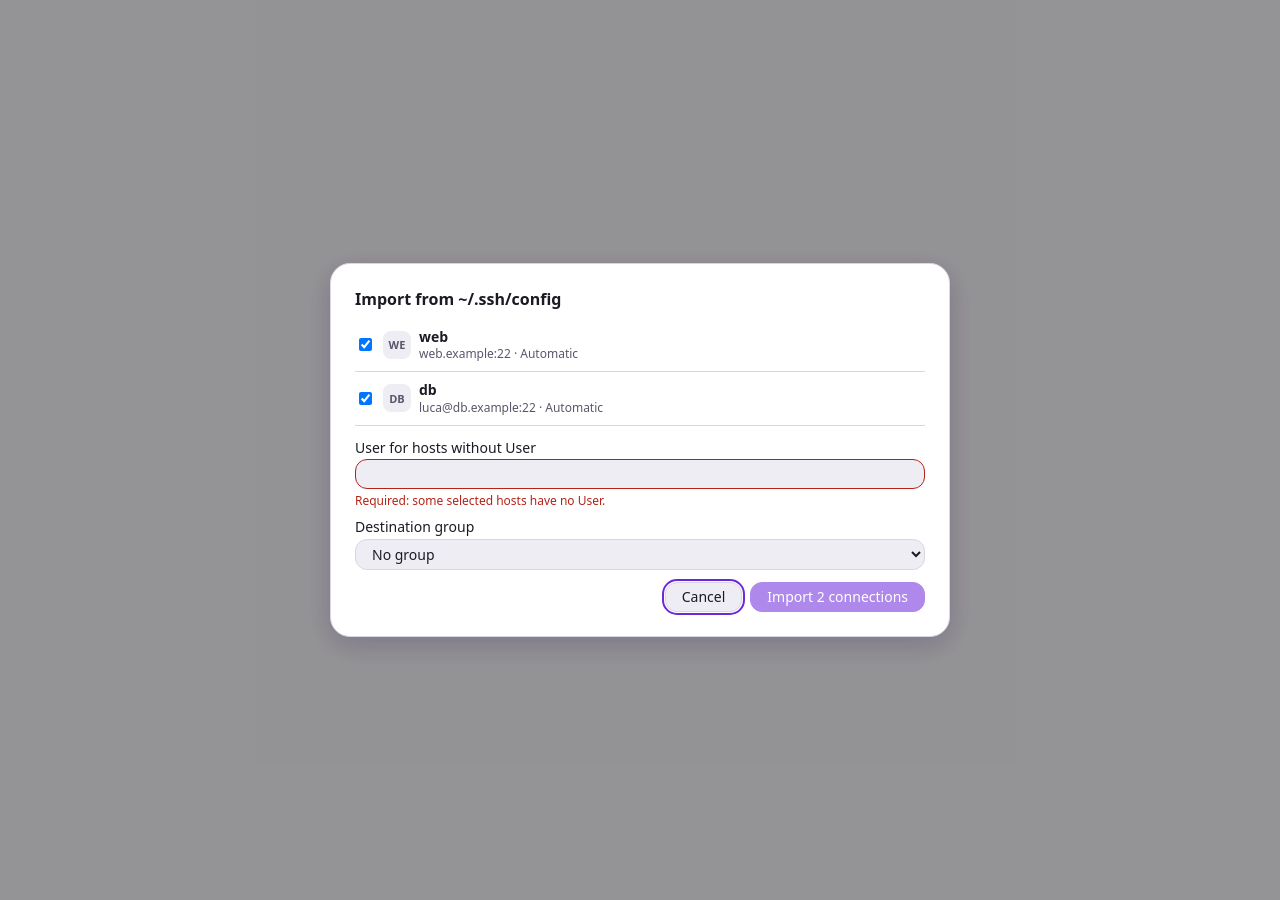
Scenario: user field appears and is required when a selected host has no User
The width and height of the screenshot is (1280, 900).
Expected: the dialog is shown, [330, 263, 950, 637]
Expected: the button "Import 2 connections" is disabled, [750, 582, 925, 612]
Type "root" into the field labelled "User for hosts without User".
click(640, 474); type("root")  # box [355, 459, 925, 489]
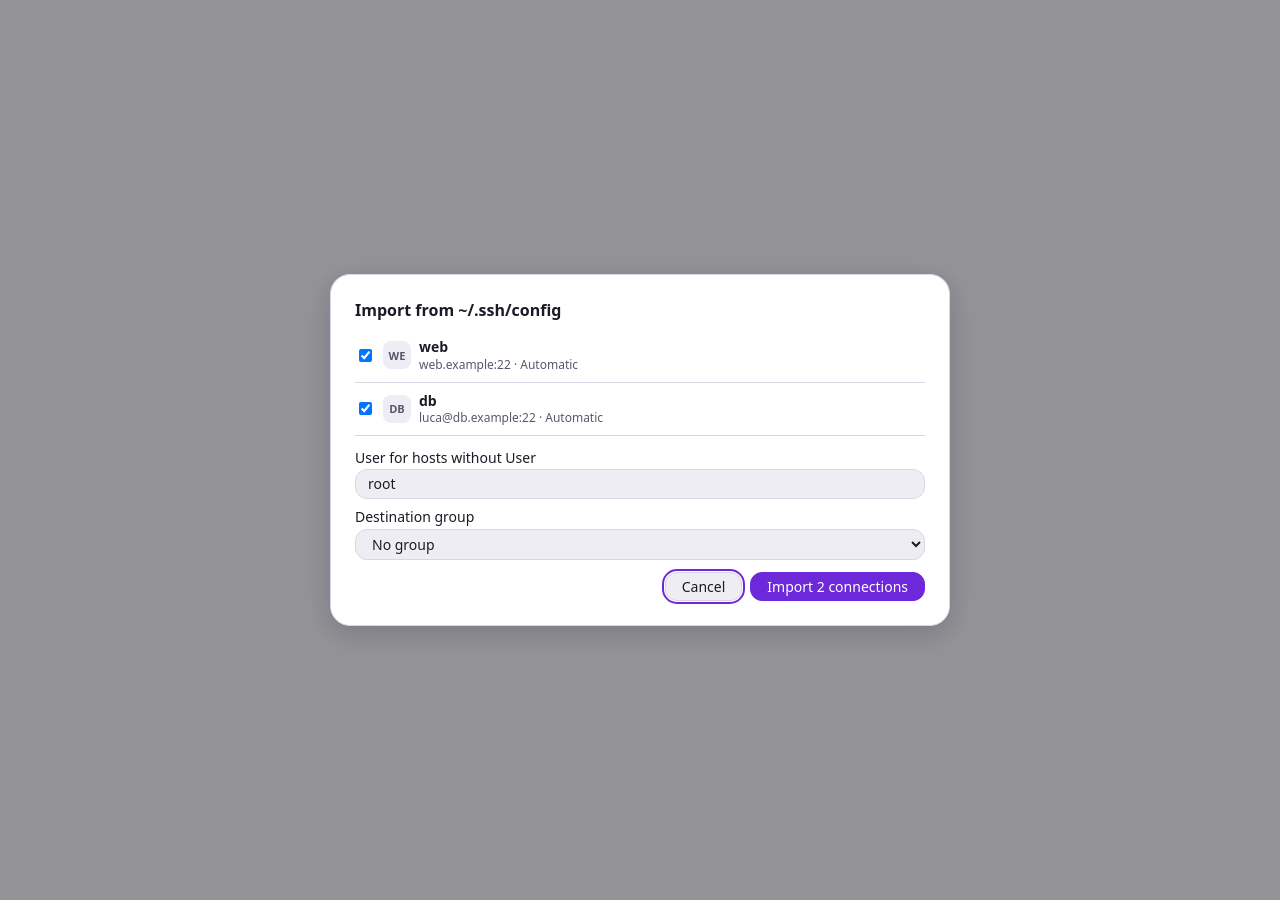
Expected: the button "Import 2 connections" is enabled, [750, 572, 925, 601]
Click the checkbox labelled "WE web web.example:22 · Automatic".
click(366, 355)  # box [359, 349, 372, 362]
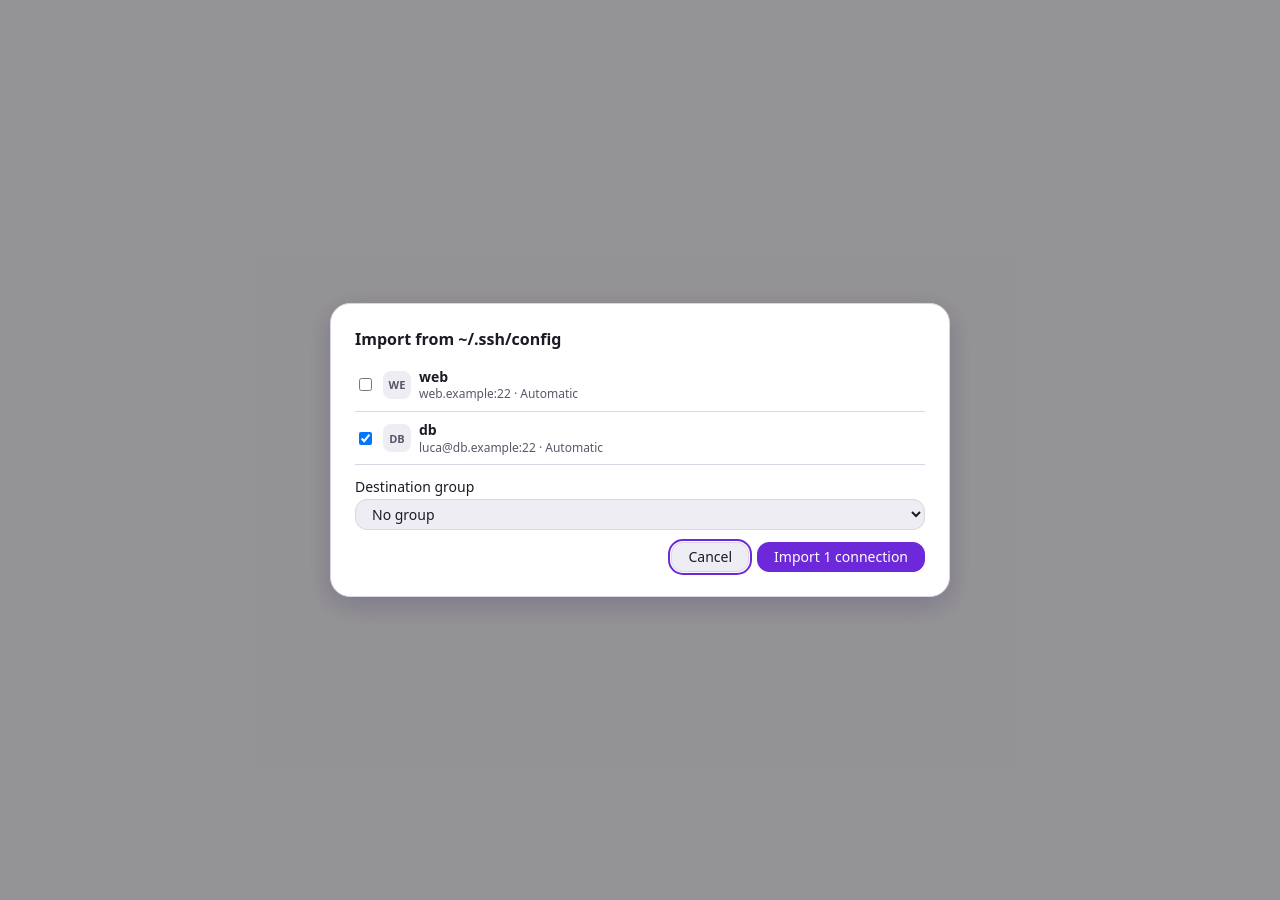
Expected: the label labelled "User for hosts without User" is gone
